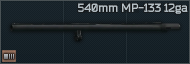MP-133 12ga 540mm barrel with rib: (0, 0, 190, 64)
